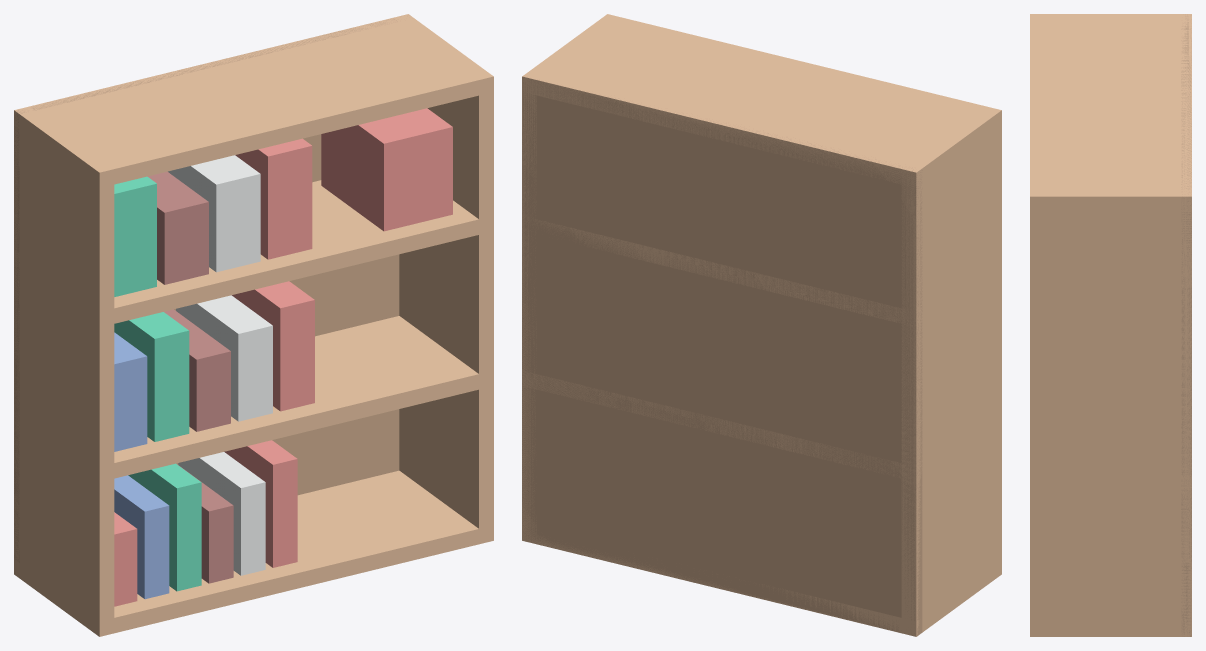
The model's file is kidsBookshelf.glb.
3 views of the same model, side by side, from view 1: azimuth 30°, elevation 25°; view 2: azimuth 150°, elevation 25°; view 3: azimuth 270°, elevation 25° (orthographic). The views are drawn at different scales.
Visible parts, largest first — view 1: kidsBookshelf; view 2: kidsBookshelf; view 3: kidsBookshelf.
Boxes of the visible parts, x1,y1,x2,y2 form: kidsBookshelf: [14, 14, 493, 636]; kidsBookshelf: [522, 14, 1001, 636]; kidsBookshelf: [1030, 14, 1191, 636].
Size of the model in its own units: 0.4 by 0.45 by 0.15.
